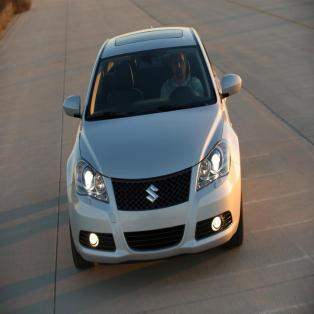Auto: (62, 20, 244, 278)
